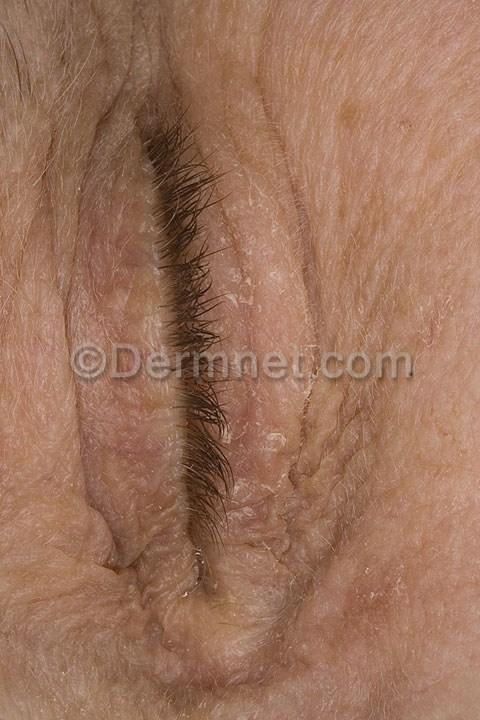Eczema: (64, 409, 172, 492), (60, 60, 149, 156), (72, 240, 150, 343), (78, 332, 159, 430), (216, 221, 287, 329), (124, 564, 208, 654), (217, 320, 301, 410), (229, 398, 324, 474), (74, 154, 145, 251), (99, 478, 173, 566), (236, 566, 310, 649), (157, 52, 242, 119), (213, 112, 279, 196), (248, 464, 309, 544), (217, 159, 277, 238)
